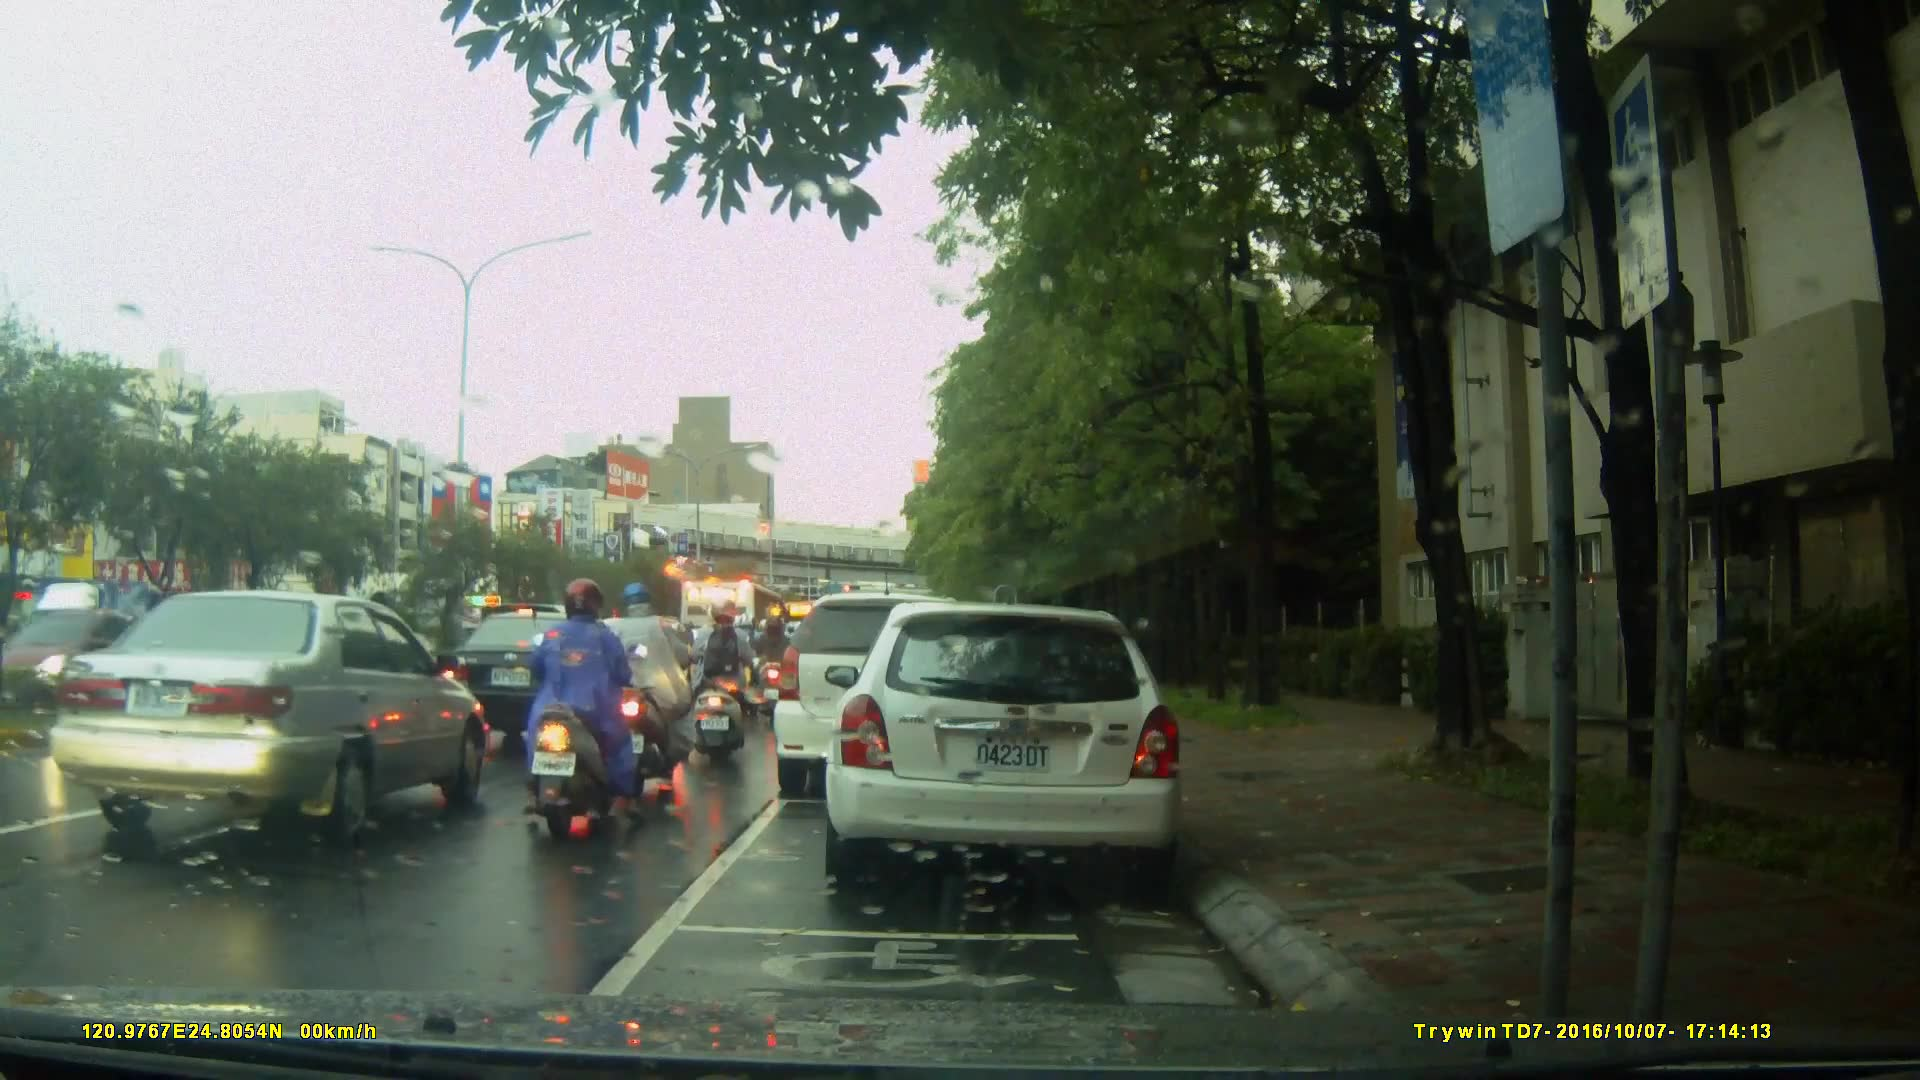rider: (519, 576, 638, 841), (618, 582, 702, 783), (686, 598, 753, 751), (755, 612, 795, 719)
vehicle: (50, 588, 494, 853), (831, 592, 1196, 897), (769, 592, 999, 800), (437, 608, 619, 739), (678, 580, 801, 705)
